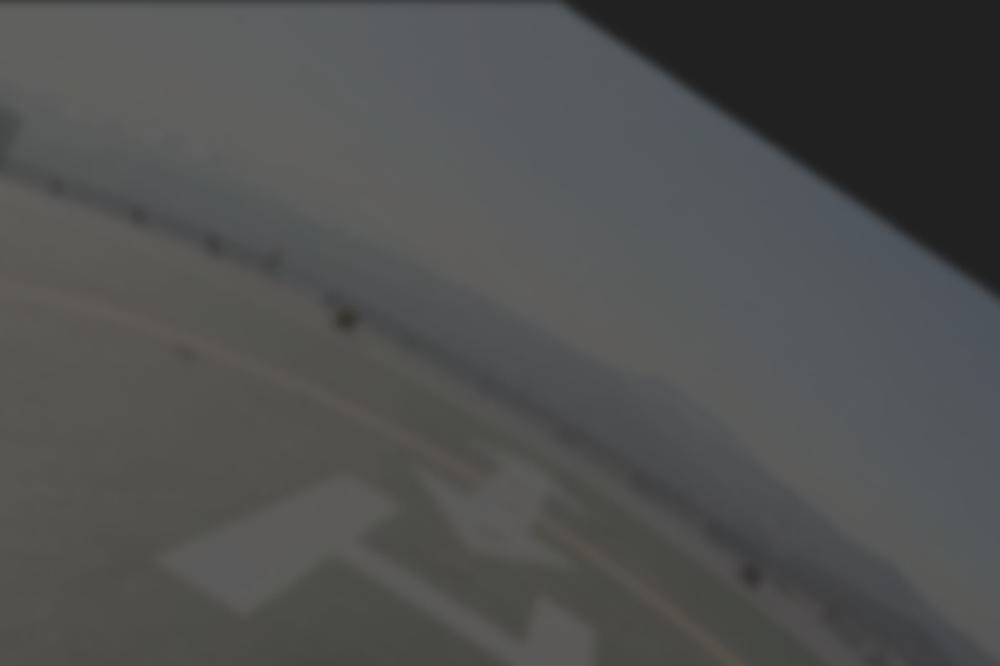Apron: (13, 265, 790, 661)
